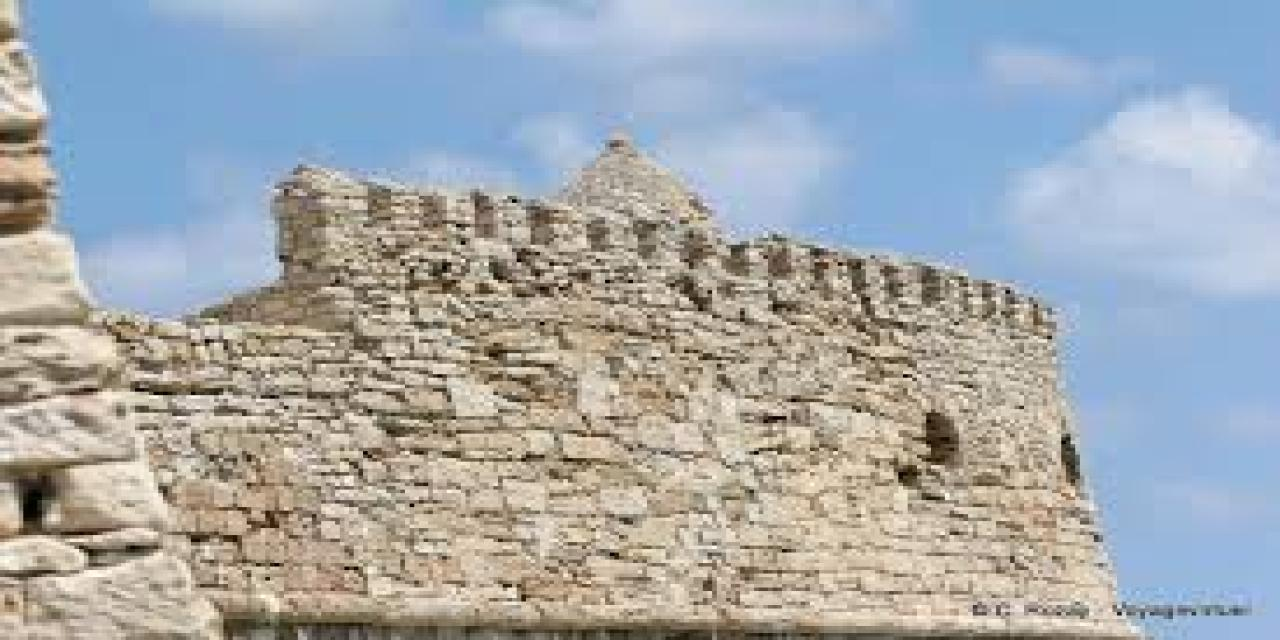Kules: (1, 161, 1145, 640)
